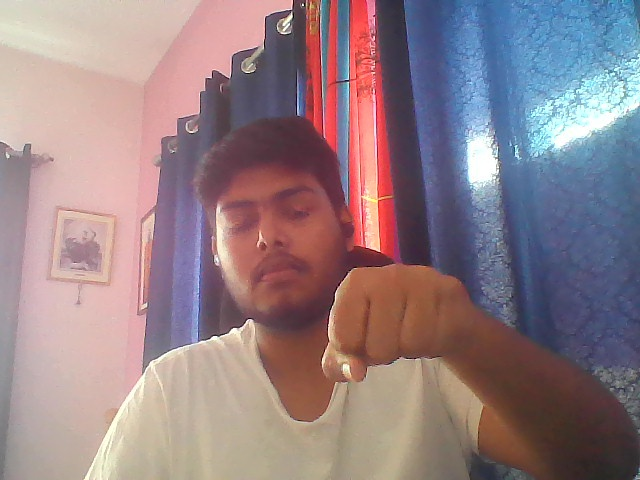Yes: (310, 255, 503, 387)
